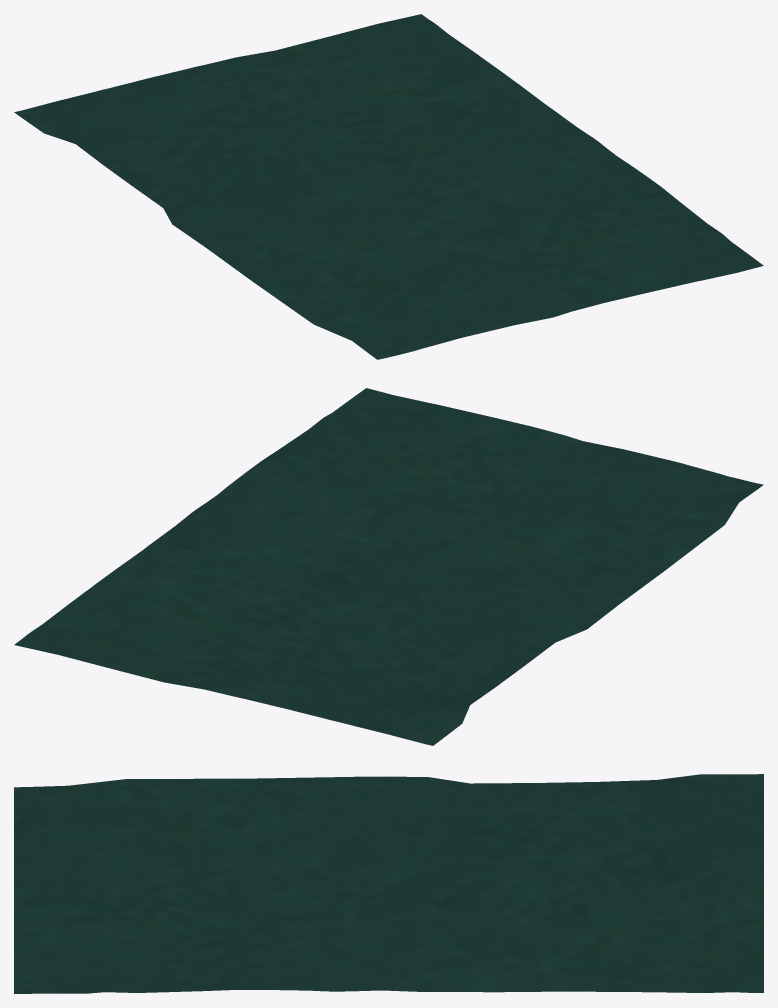
The picture shows the model from 3 angles, top to bottom: view 1: azimuth 30°, elevation 25°; view 2: azimuth 150°, elevation 25°; view 3: azimuth 270°, elevation 25°; orthographic projection. The views are drawn at different scales.
Bounding box in the file's own units: 35.85 × 0.4234 × 52.22.
Materials: 2 (2 with a texture image).
